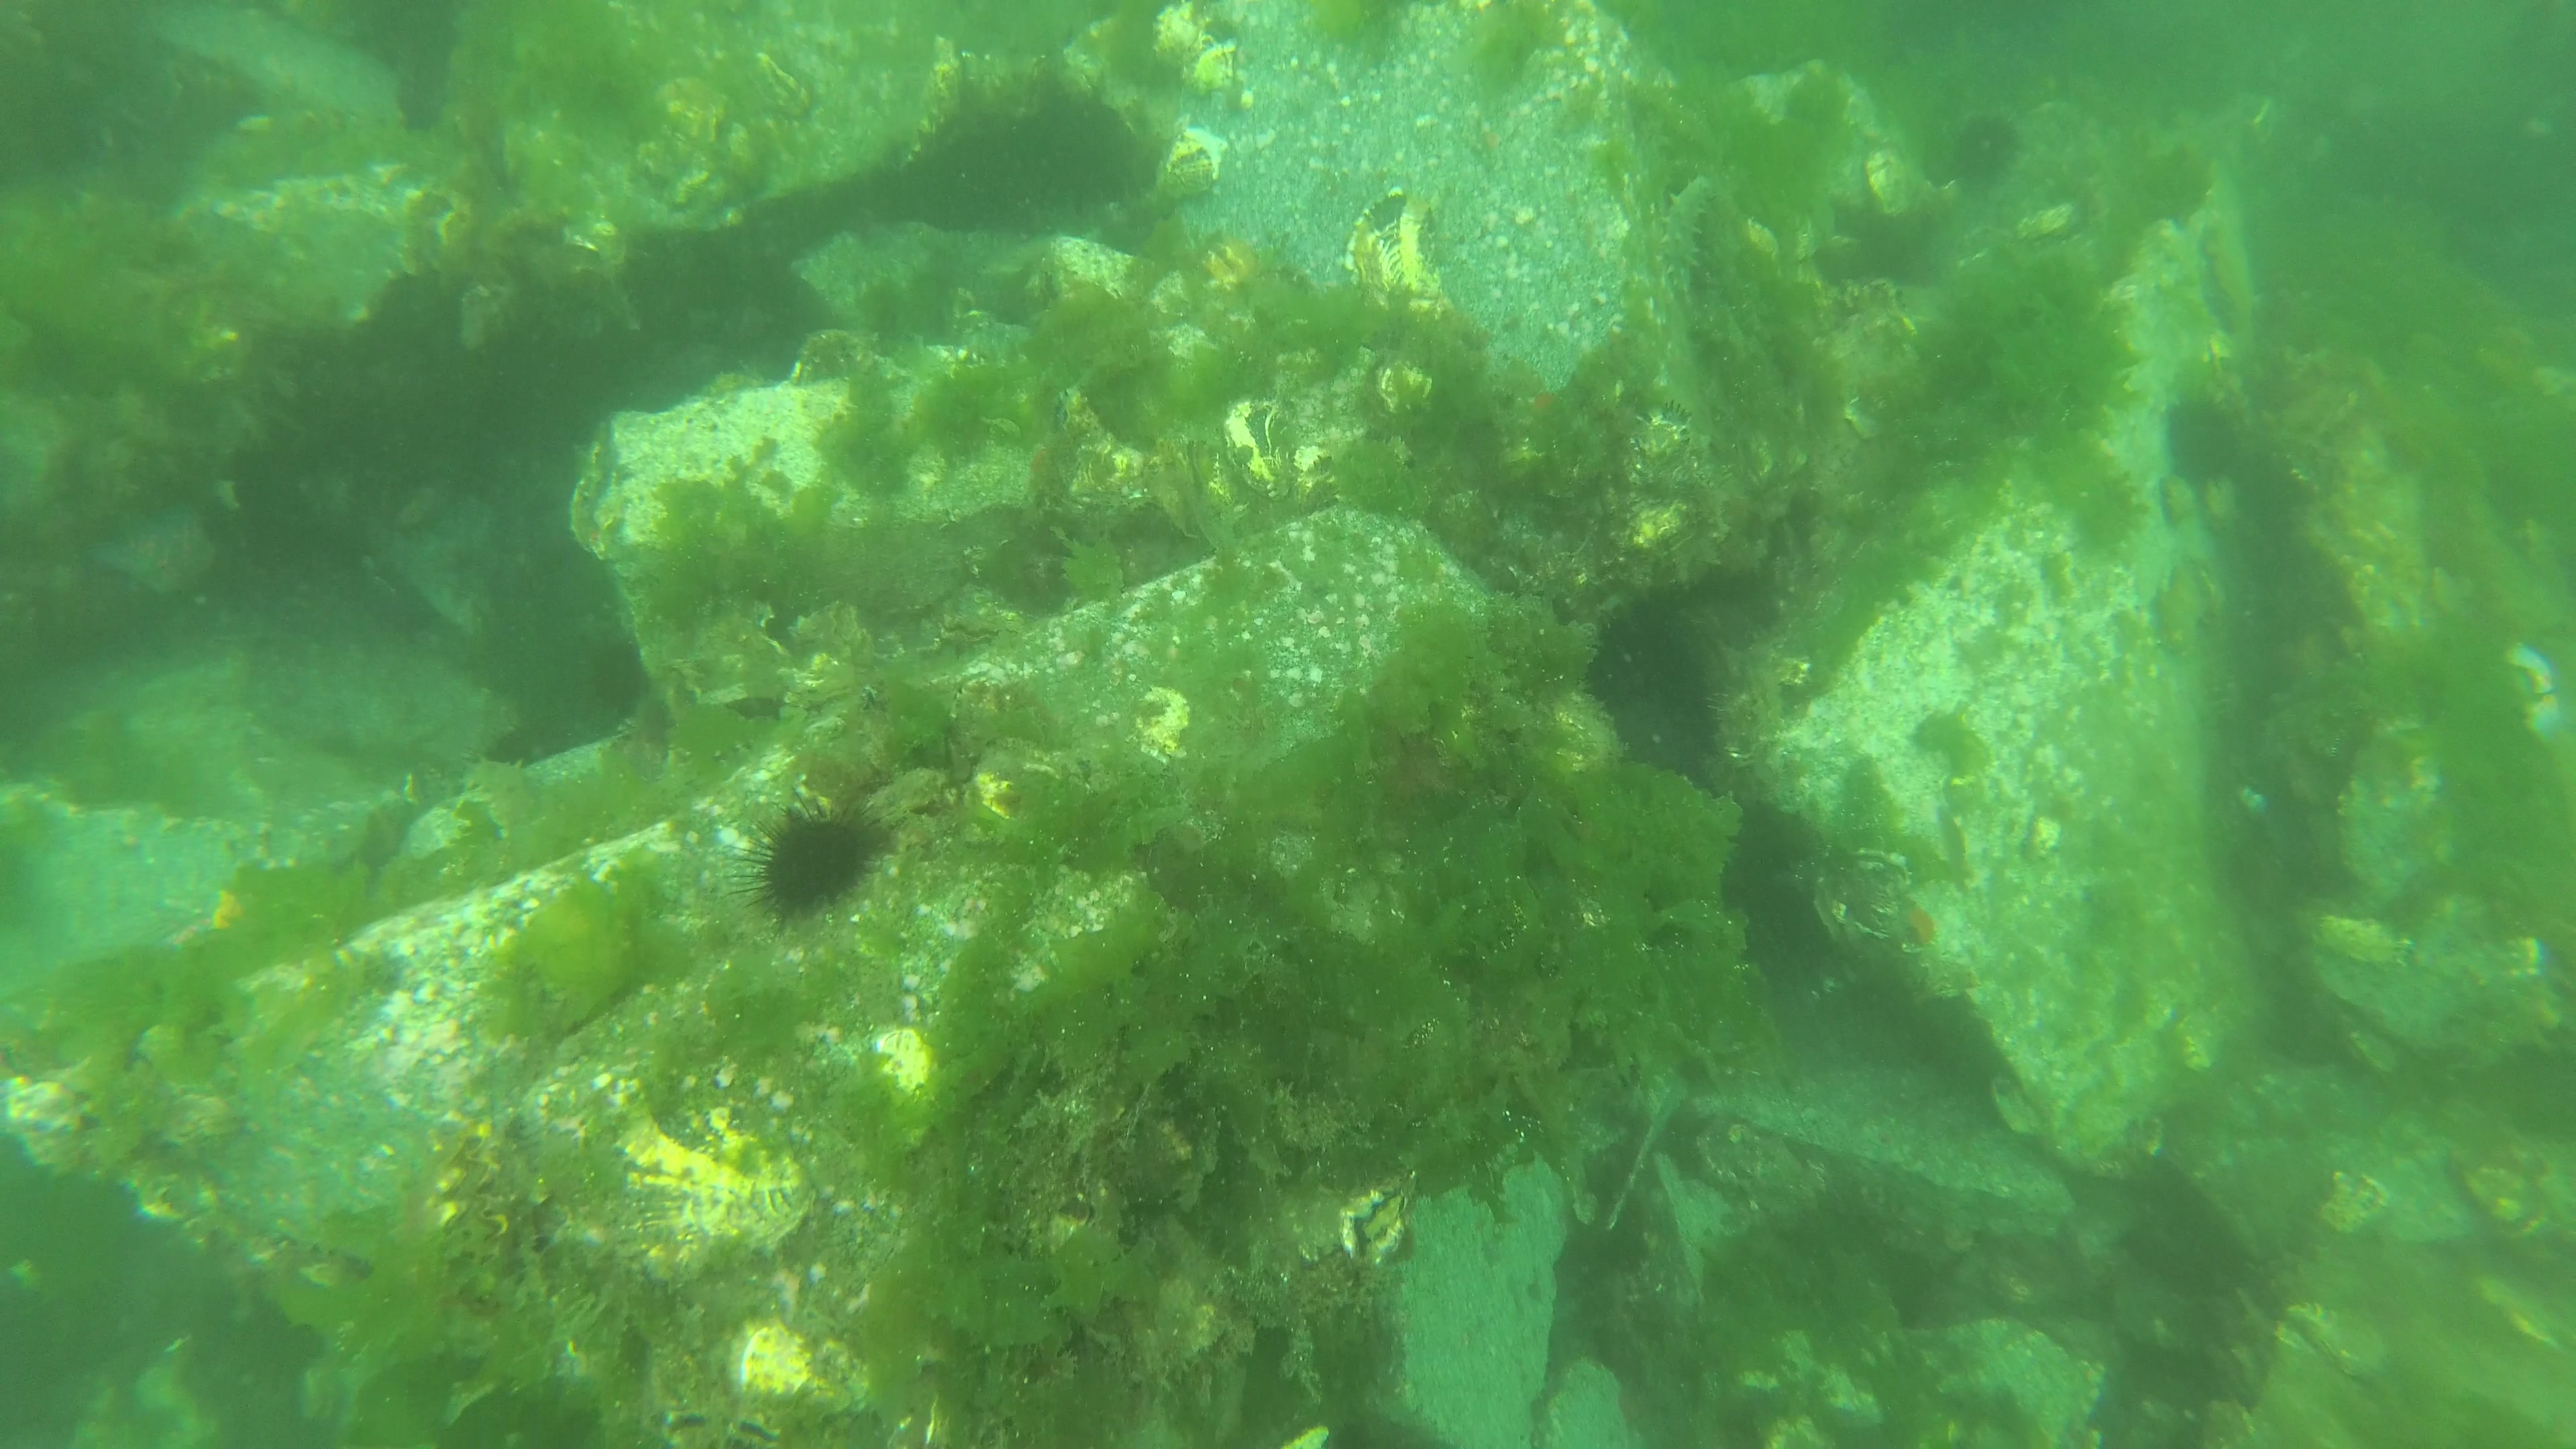echinus: (718, 782, 920, 938), (2158, 379, 2249, 502), (1941, 103, 2031, 195)
